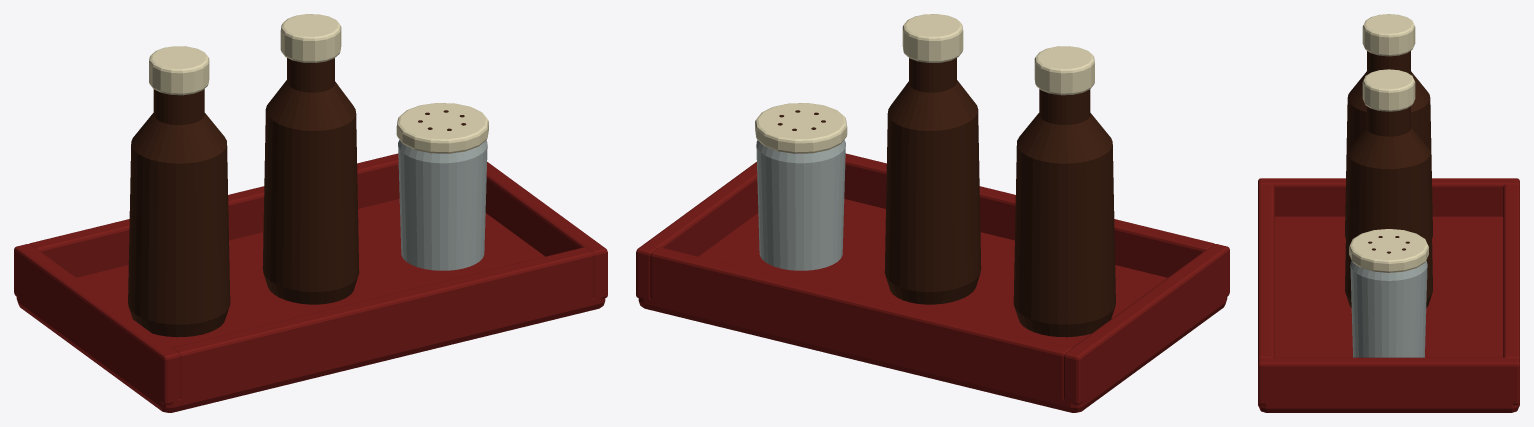
The model's file is kopitiam-condiment-tray-reopened-edit.glb.
3 renders of one model, left to right at view 1: azimuth 30°, elevation 25°; view 2: azimuth 150°, elevation 25°; view 3: azimuth 270°, elevation 25°, orthographic. The views are drawn at different scales.
Parts seen in each view (by area): view 1: TRAY_End, BOTTLE_Sauce.001, BOTTLE_Sauce, TRAY_Base, SHAKER_Body, TRAY_Side, TRAY_End.001, TRAY_Side.001, SHAKER_Cap, CAP_Sauce, CAP_Sauce.001; view 2: TRAY_End.001, BOTTLE_Sauce.001, BOTTLE_Sauce, TRAY_Base, SHAKER_Body, TRAY_Side, TRAY_End, TRAY_Side.001, SHAKER_Cap, CAP_Sauce, CAP_Sauce.001; view 3: TRAY_Base, TRAY_Side.001, BOTTLE_Sauce, SHAKER_Body, TRAY_Side, BOTTLE_Sauce.001, TRAY_End, TRAY_End.001, SHAKER_Cap, CAP_Sauce.001, CAP_Sauce.
Boxes of the visible parts, x1,y1,x2,y2 form: TRAY_End: (172,247,593,399); BOTTLE_Sauce.001: (128,89,230,337); BOTTLE_Sauce: (262,58,359,304); TRAY_Base: (16,199,605,412); SHAKER_Body: (398,140,487,270); TRAY_Side: (14,244,179,404); TRAY_End.001: (29,153,399,277); TRAY_Side.001: (485,162,607,298); SHAKER_Cap: (396,103,488,153); CAP_Sauce: (280,14,341,62); CAP_Sauce.001: (149,46,209,95); TRAY_End.001: (650,247,1071,399); BOTTLE_Sauce.001: (1013,89,1115,337); BOTTLE_Sauce: (884,58,981,304); TRAY_Base: (638,199,1227,412); SHAKER_Body: (756,140,845,270); TRAY_Side: (1064,244,1229,404); TRAY_End: (844,153,1214,277); TRAY_Side.001: (636,162,758,298); SHAKER_Cap: (755,103,847,153); CAP_Sauce: (902,14,963,62); CAP_Sauce.001: (1034,46,1094,95); TRAY_Base: (1258,216,1519,412); TRAY_Side.001: (1258,357,1519,404); BOTTLE_Sauce: (1345,106,1432,307); SHAKER_Body: (1350,260,1427,357); TRAY_Side: (1258,178,1519,216); BOTTLE_Sauce.001: (1345,51,1432,238); TRAY_End: (1258,184,1274,359); TRAY_End.001: (1503,184,1519,359); SHAKER_Cap: (1349,229,1428,272); CAP_Sauce.001: (1362,14,1415,56); CAP_Sauce: (1362,69,1415,111).
Bounding box in the file's own units: 0.32 × 0.195 × 0.19.
